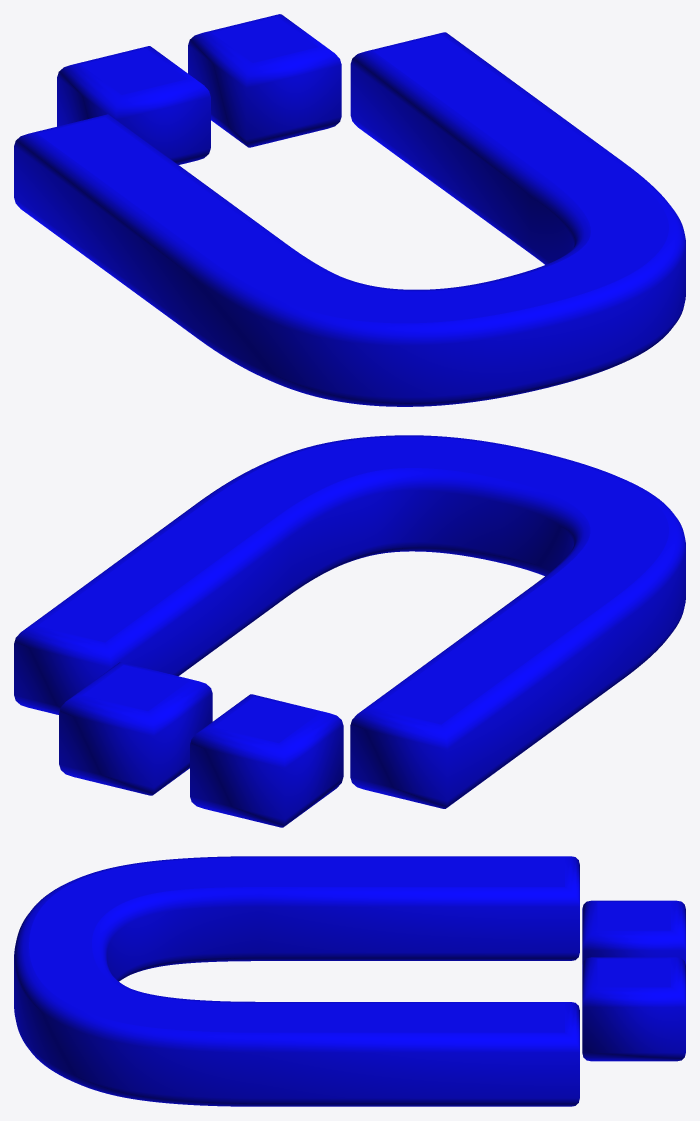
The picture shows the model from 3 angles, top to bottom: view 1: azimuth 30°, elevation 25°; view 2: azimuth 150°, elevation 25°; view 3: azimuth 270°, elevation 25°; orthographic projection. The views are drawn at different scales.
Visible parts, largest first — view 1: 220; view 2: 220; view 3: 220.
Part boxes in pixels (<box>): 220: <box>14,14,685,406</box>; 220: <box>14,435,685,827</box>; 220: <box>14,856,685,1106</box>.
Bounding box in the file's own units: 0.8868 × 0.16 × 1.34.
